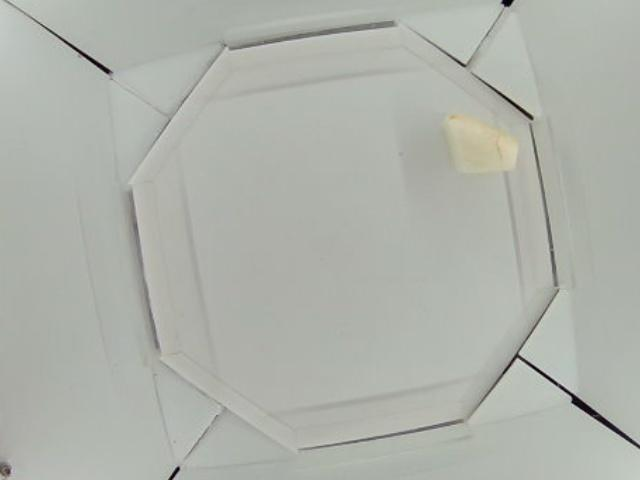Mooli: (445, 112, 519, 174)
